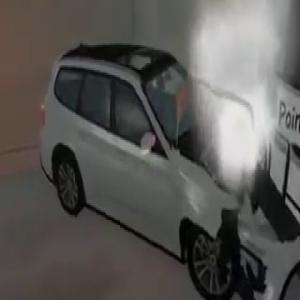serious: (33, 0, 300, 300)
